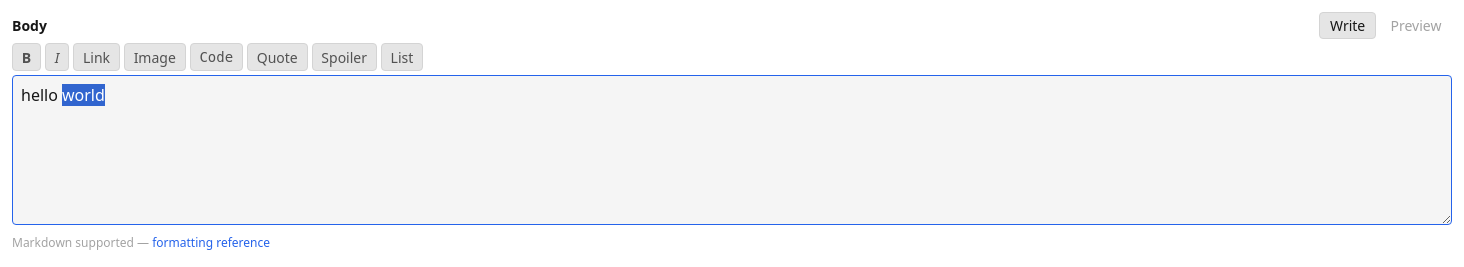
Test: MarkdownEditor › toolbar insertion › wraps the current selection
Click the button named "Bold": (26, 57) [12, 43, 41, 71]
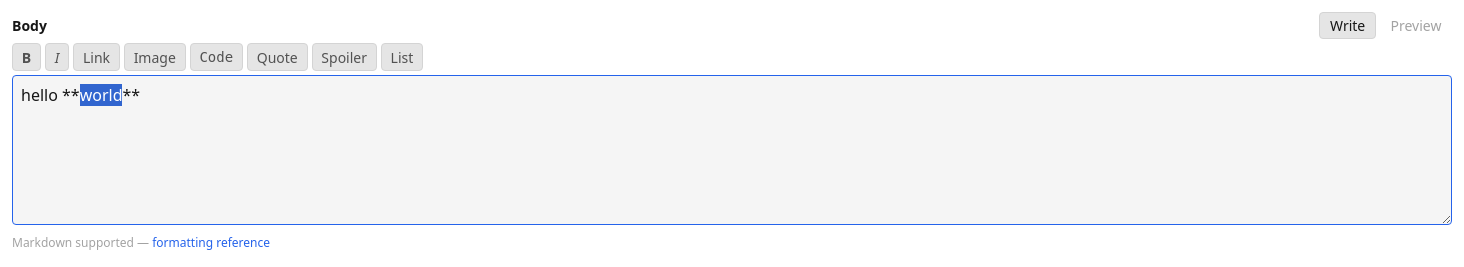
expect the text box labelled "Body" holds "hello **world**": met, box [12, 75, 1452, 225]
